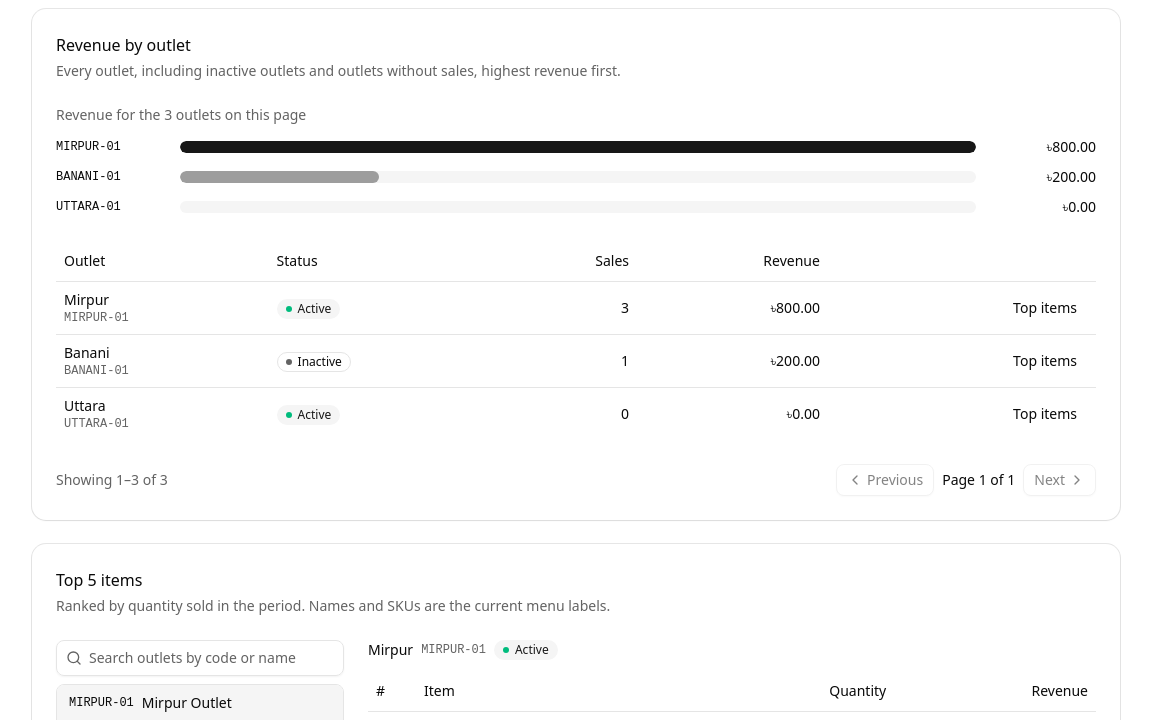
Test: HQ dashboard › switches the top-items outlet, including inactive outlets, and keeps it in the URL
(page scrolled)
Click the button with aria-label "Show top items for Banani" at (1045, 360), box [1002,344,1088,376]
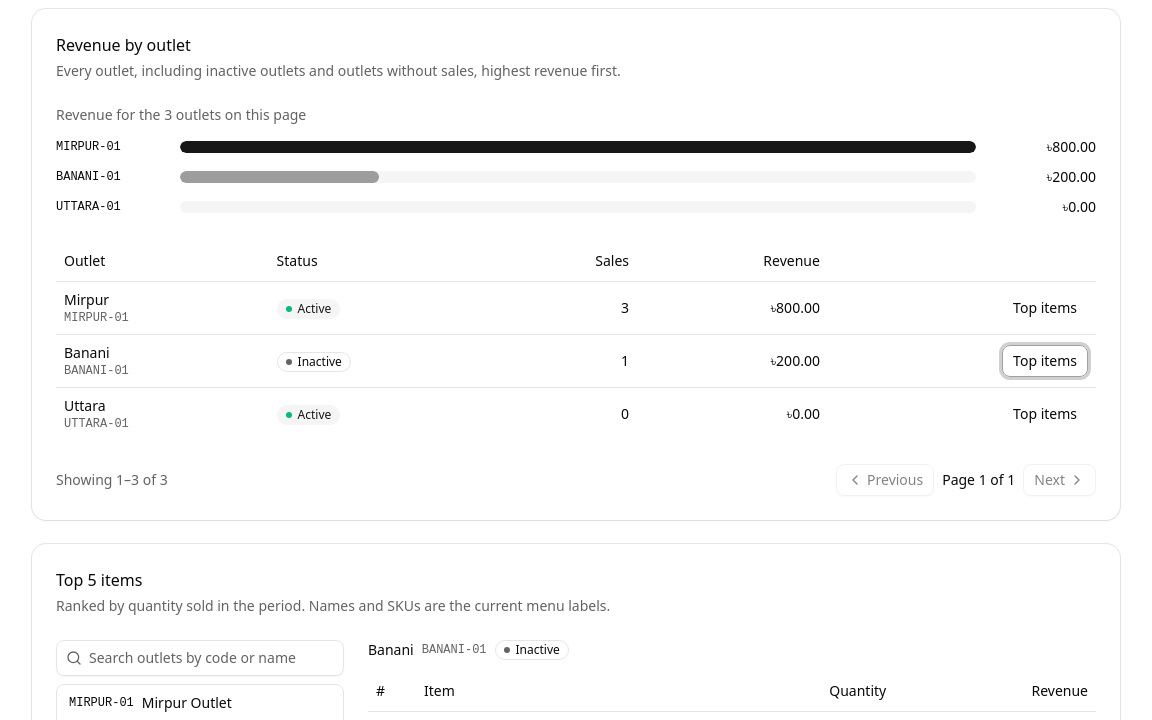
Click the button with aria-label "Show top items for Uttara" at (1045, 414), box [1002,398,1088,430]
(page scrolled)
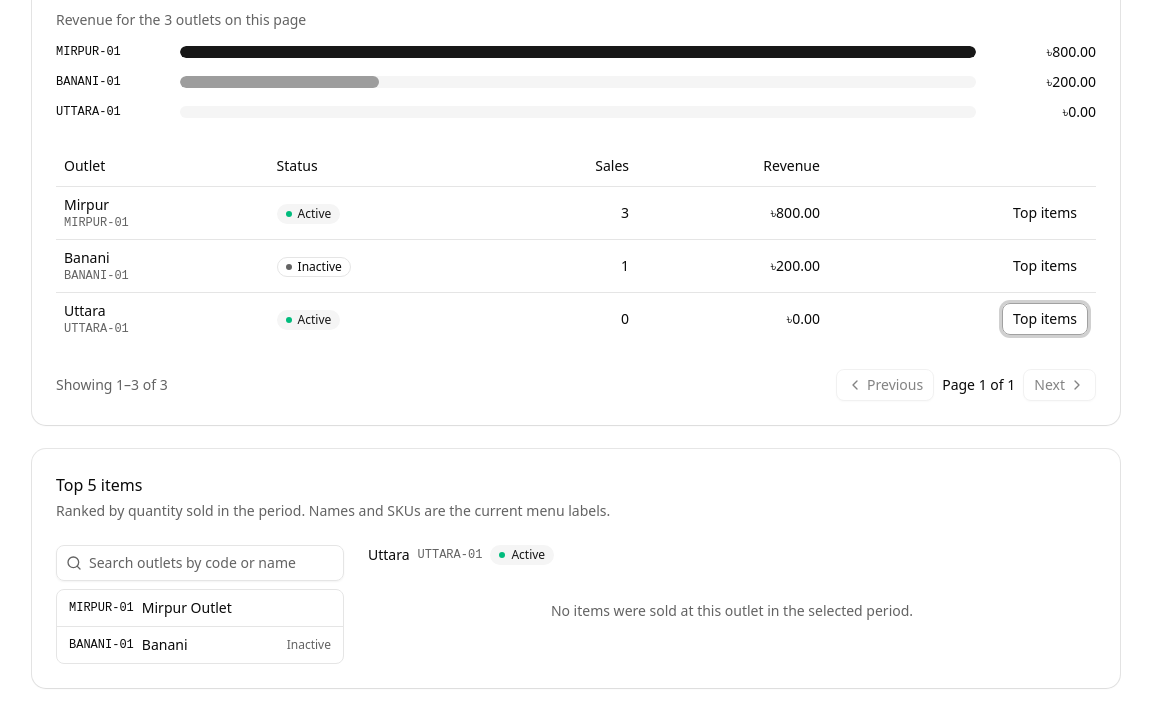
Now the text "No items were sold at this outlet in the selected period." is shown, box [551,600,913,620]
